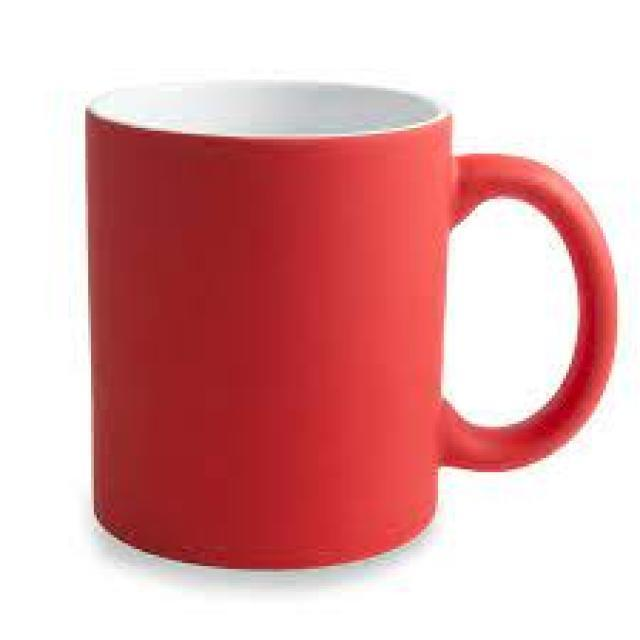Coffee Mug: (88, 77, 617, 568)
